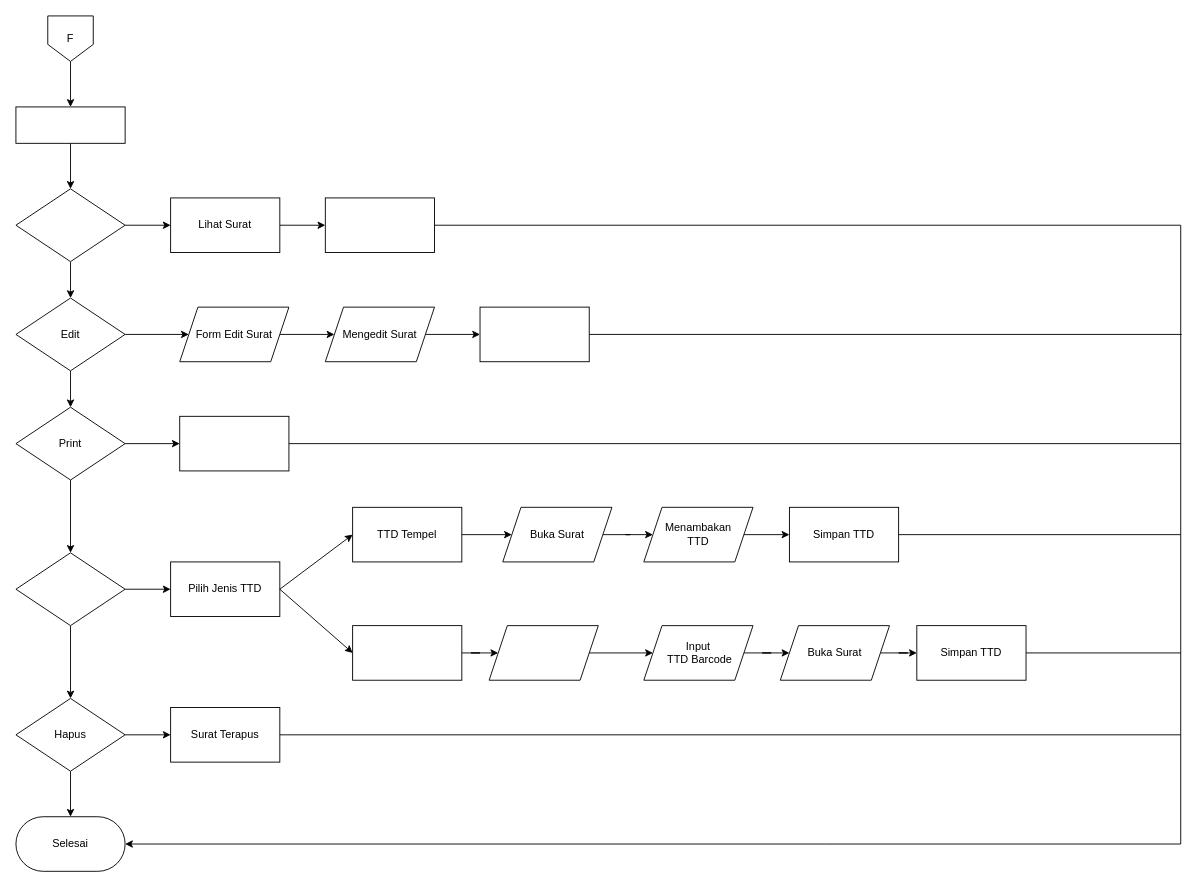
Some shapes in this 1204 by 887 pixel diagram are drawn without their labels. Here are the shapes that lost their labels. From the top down, the centre of each, then its label:
At (x=70, y=124): "Program Aksi".
At (x=70, y=225): "Detail".
At (x=379, y=225): "Download Surat".
At (x=534, y=334): "Simpan Surat".
At (x=234, y=443): "Print Surat".
At (x=70, y=589): "TTD".
At (x=407, y=652): "TTD Barcode".
At (x=543, y=652): "Input Kata Sandi".
